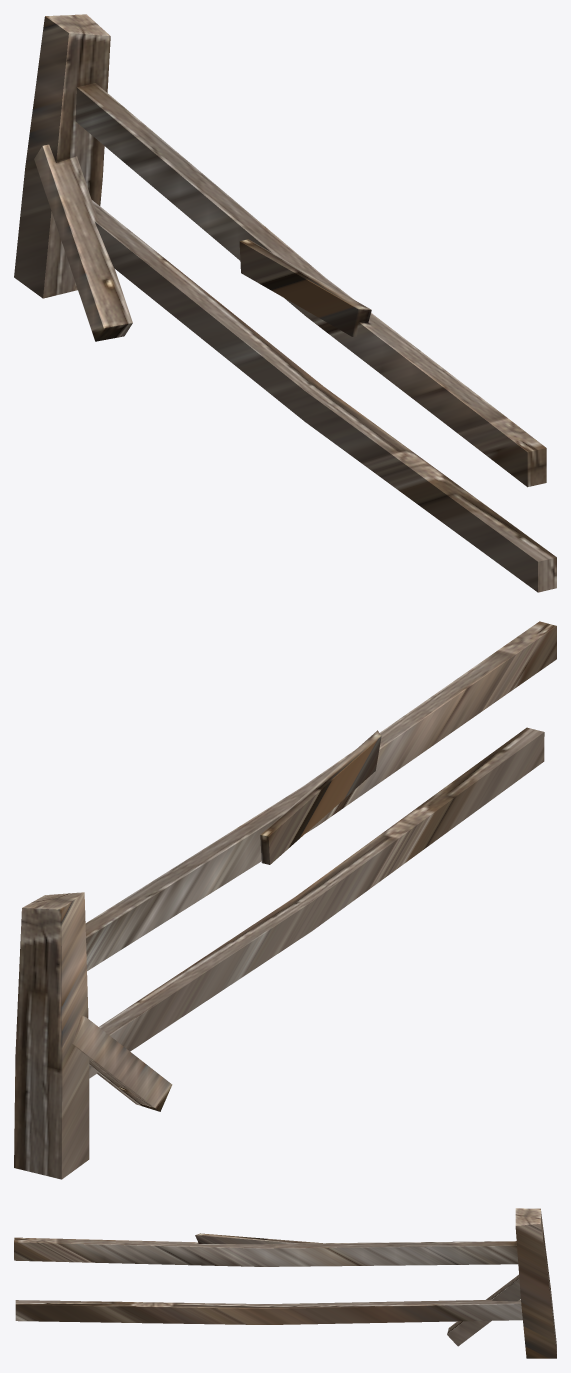
File: start_fence_08.glb
3 renders of one model, top to bottom at view 1: azimuth 30°, elevation 25°; view 2: azimuth 150°, elevation 25°; view 3: azimuth 270°, elevation 25°, orthographic. The views are drawn at different scales.
Parts seen in each view (by area): view 1: start_fence_08_game; view 2: start_fence_08_game; view 3: start_fence_08_game.
Boxes of the visible parts, box(x1,y1,x2,y2) form: start_fence_08_game: box(14, 14, 556, 592); start_fence_08_game: box(14, 621, 556, 1179); start_fence_08_game: box(14, 1208, 556, 1358).
Bounding box in the file's own units: 0.3579 × 1.31 × 4.55.
1 material, 1 textured.
